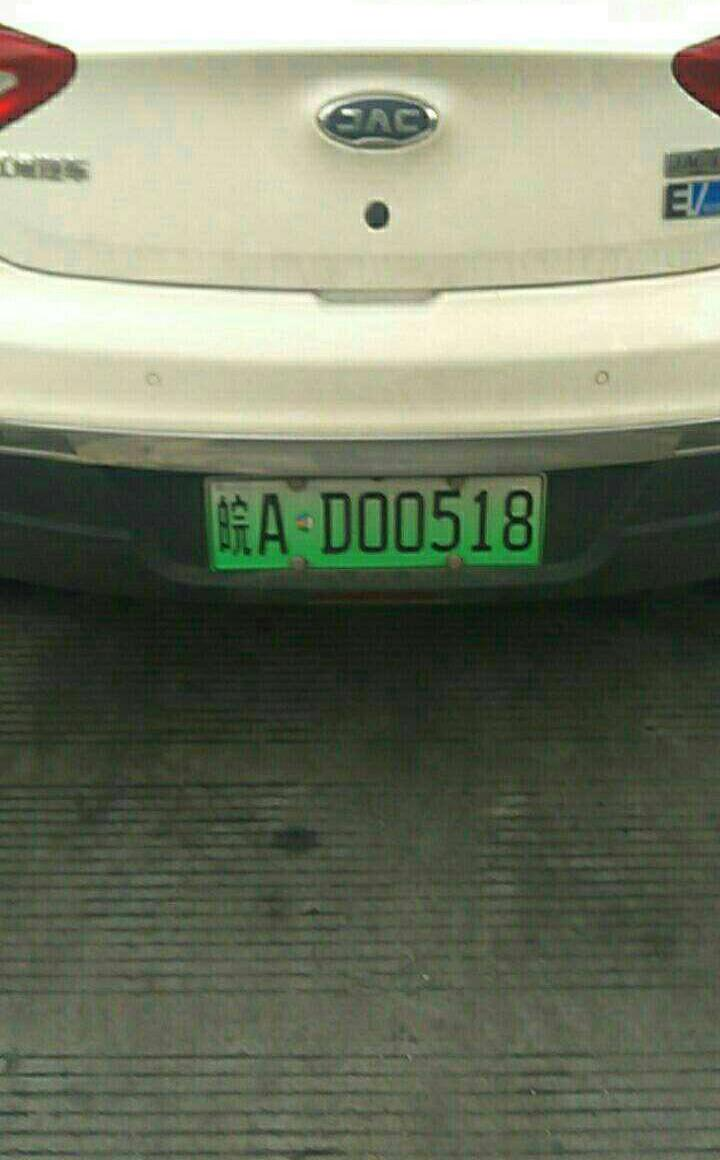car_id: (205, 476, 544, 567)
